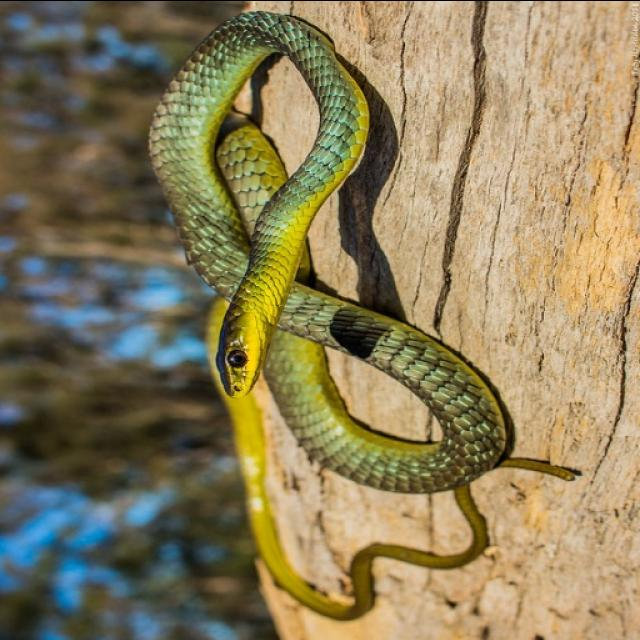snake: (130, 18, 594, 622)
